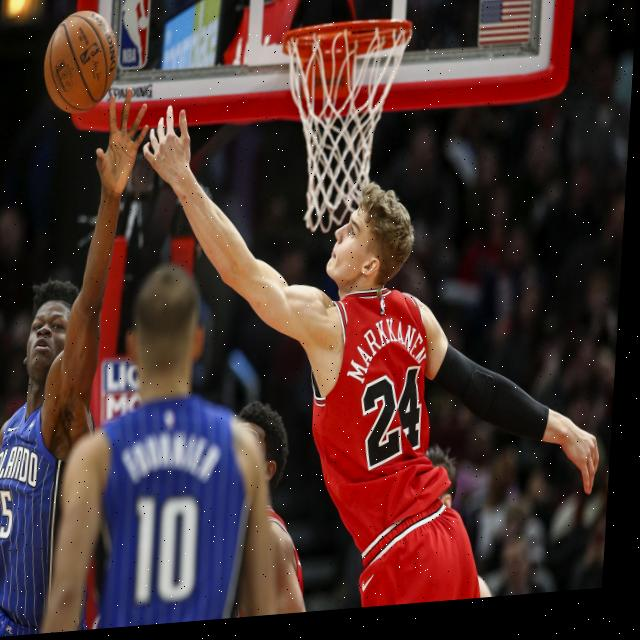basketball: (41, 8, 120, 117)
hoop: (270, 16, 413, 236)
